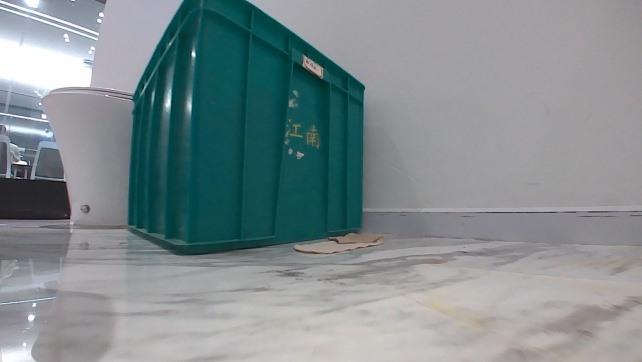socks: (290, 230, 386, 256)
toilet: (37, 84, 136, 230)
